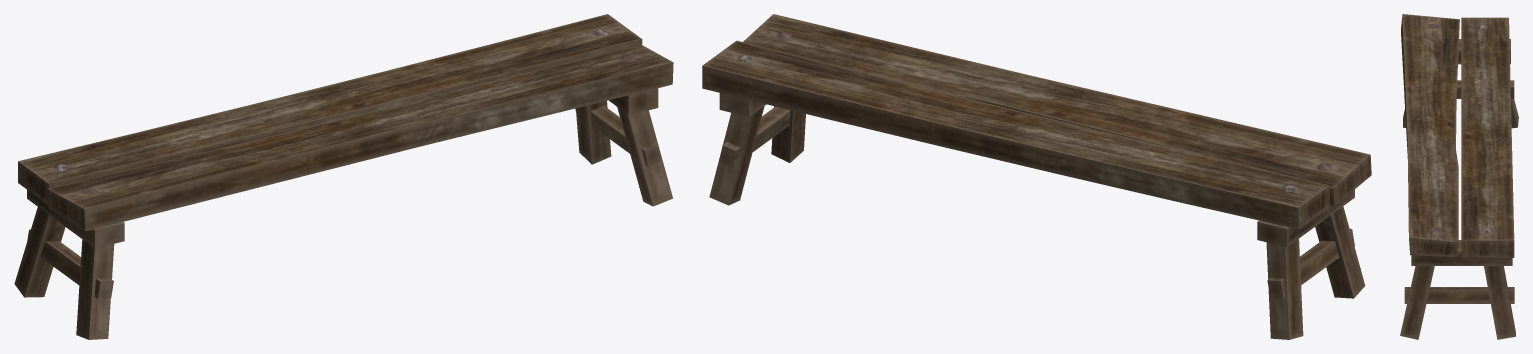
File: bench.glb
3 views of the same model, side by side, from view 1: azimuth 30°, elevation 25°; view 2: azimuth 150°, elevation 25°; view 3: azimuth 270°, elevation 25° (orthographic). The views are drawn at different scales.
Parts seen in each view (by area): view 1: global_props_roughwood_bench_01_a; view 2: global_props_roughwood_bench_01_a; view 3: global_props_roughwood_bench_01_a.
Boxes of the visible parts, left/top/right/bottom form: global_props_roughwood_bench_01_a: left=14, top=14, right=673, bottom=339; global_props_roughwood_bench_01_a: left=702, top=14, right=1371, bottom=339; global_props_roughwood_bench_01_a: left=1400, top=14, right=1518, bottom=339.
Size of the model in its own units: 2.25 by 0.5025 by 0.5038.
1 material, 1 textured.
